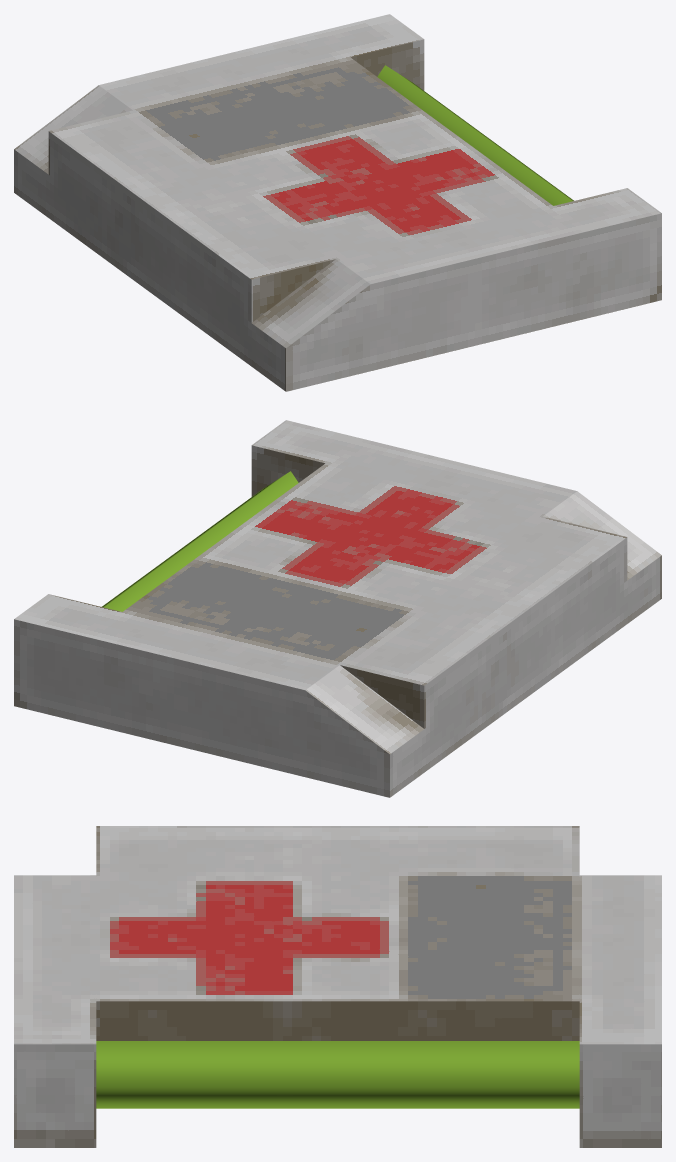
Rendered from medkit.gltf.
The picture shows the model from 3 angles, top to bottom: view 1: azimuth 30°, elevation 25°; view 2: azimuth 150°, elevation 25°; view 3: azimuth 270°, elevation 25°; orthographic projection. The views are drawn at different scales.
Parts seen in each view (by area): view 1: Medbox; view 2: Medbox; view 3: Medbox.
Boxes of the visible parts, bbox=[...] form: Medbox: bbox=[14, 14, 661, 391]; Medbox: bbox=[14, 420, 661, 797]; Medbox: bbox=[14, 826, 661, 1147].
Bounding box in the file's own units: 0.1743 × 0.0385 × 0.2185.
1 material, 1 textured.
